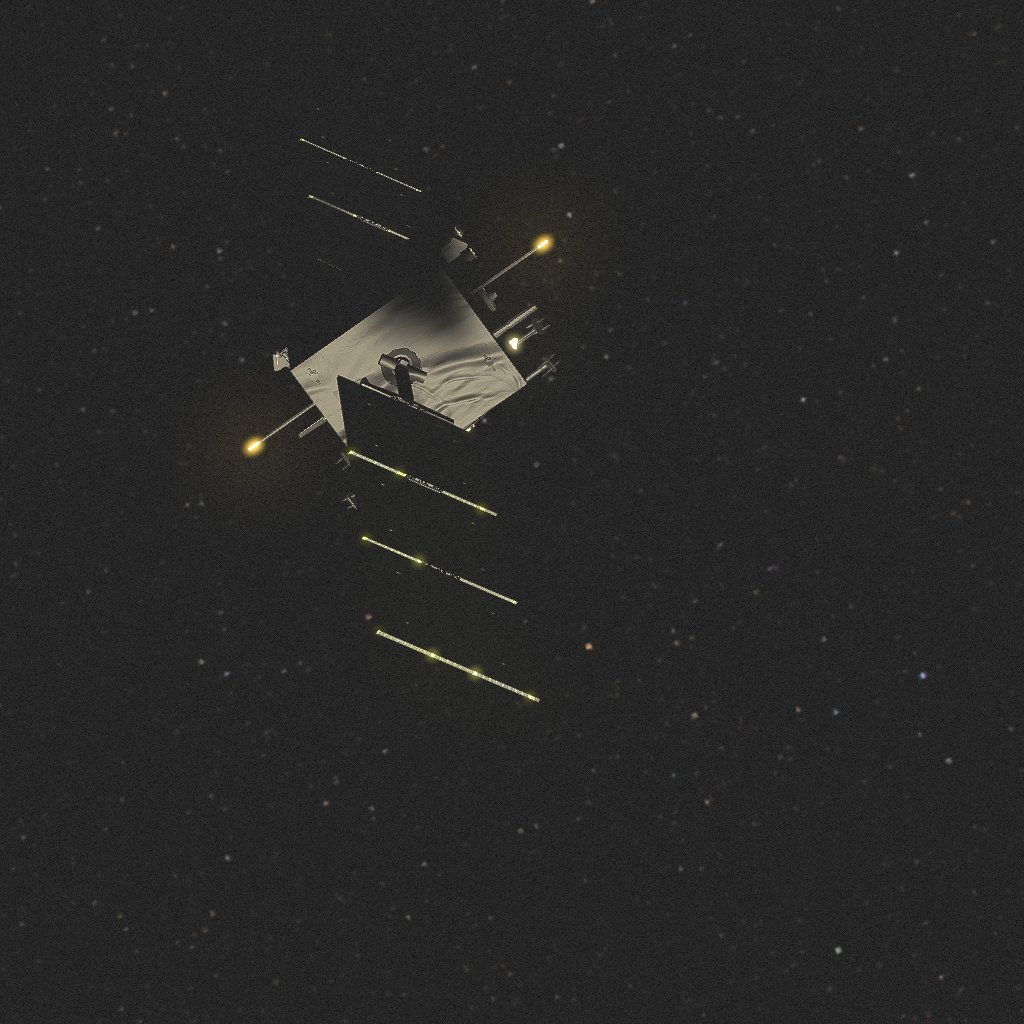smart_1: (248, 88, 560, 702)
